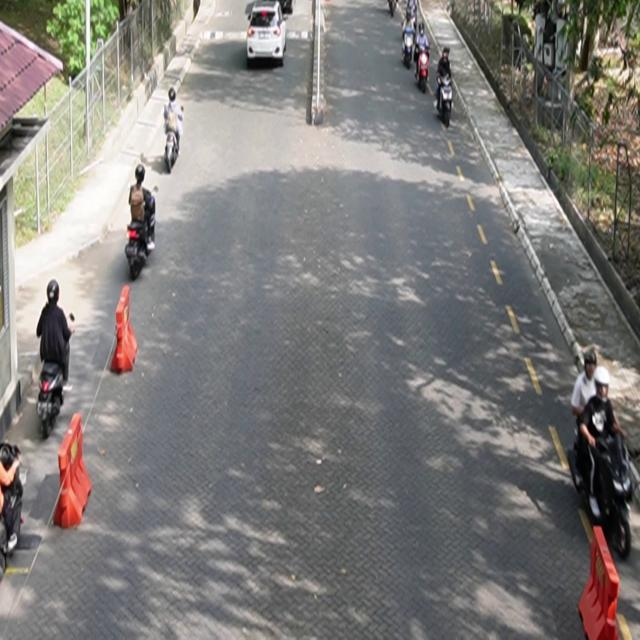car: (246, 1, 287, 67)
